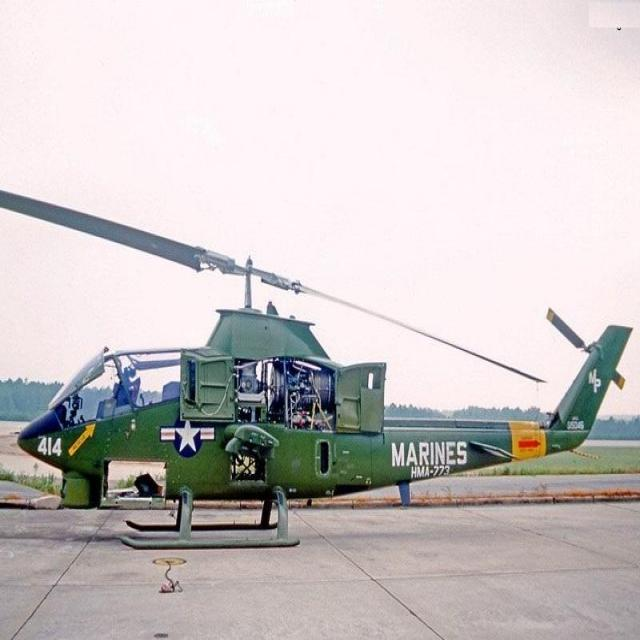MIL_HELO: (8, 167, 638, 553)
